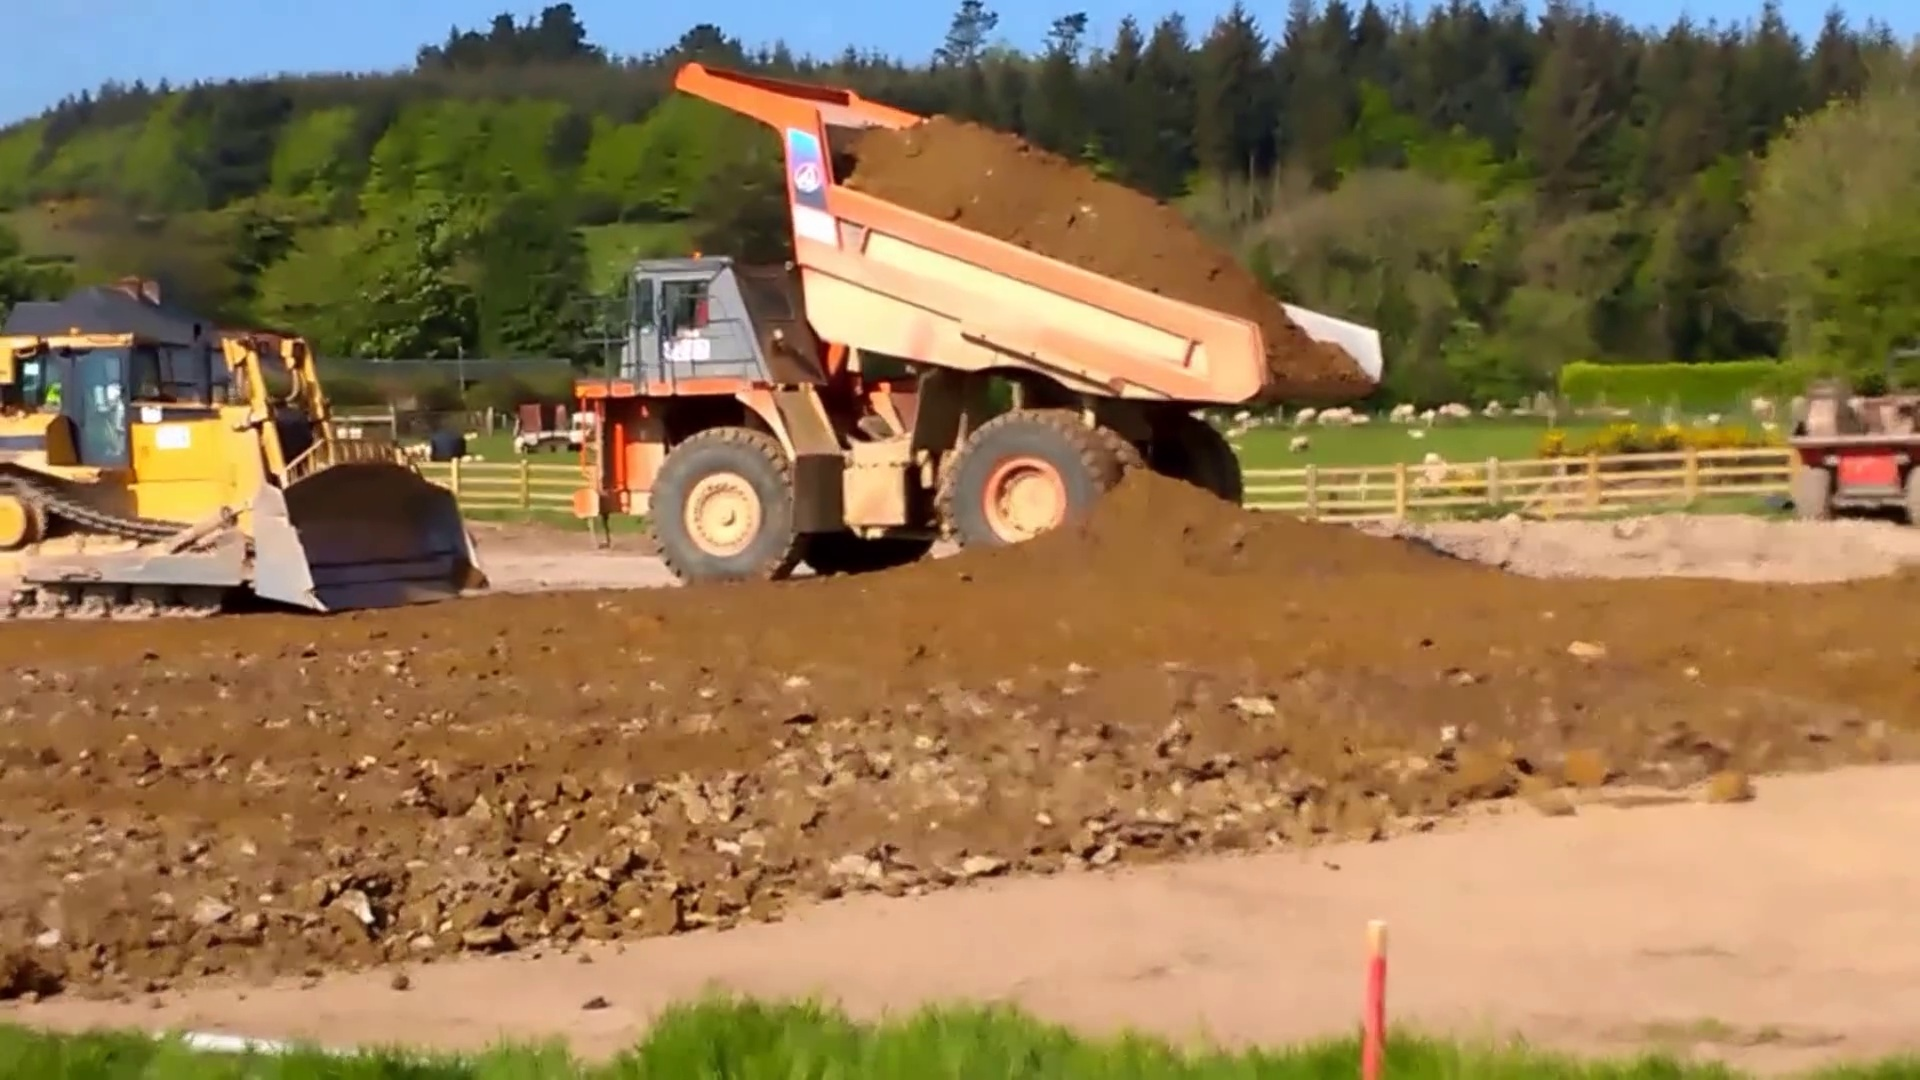bulldozer: (9, 270, 484, 620)
dumper: (582, 59, 1382, 596)
